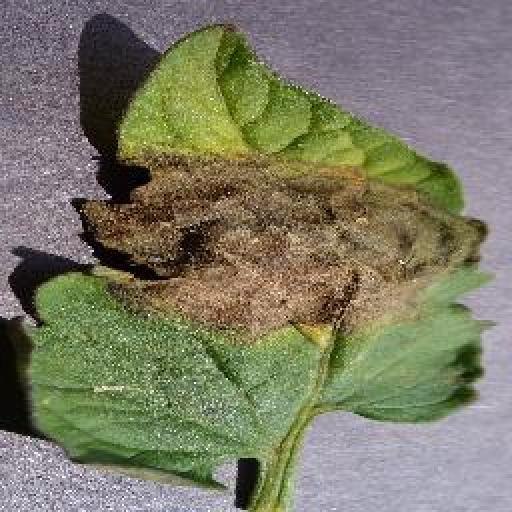Late Blight: (13, 16, 495, 499)
